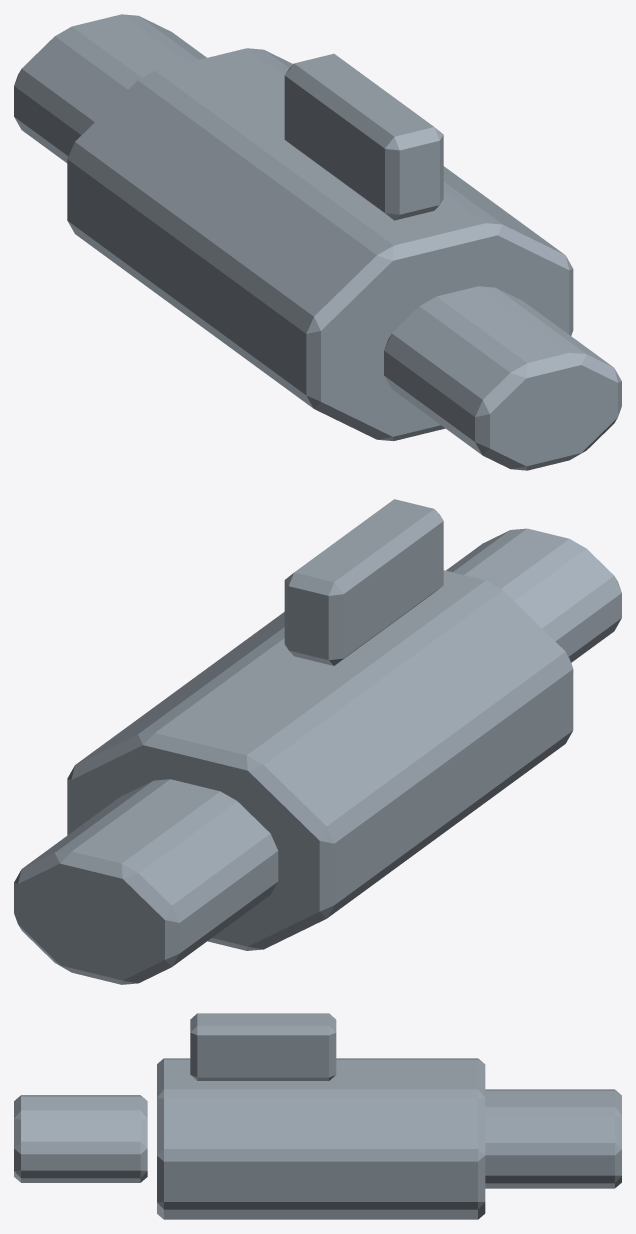
Rendered from capsule_hull_heavy.glb.
3 renders of one model, top to bottom at view 1: azimuth 30°, elevation 25°; view 2: azimuth 150°, elevation 25°; view 3: azimuth 270°, elevation 25°, orthographic. The views are drawn at different scales.
Visible parts, largest first — view 1: capsule_hull_heavy; view 2: capsule_hull_heavy; view 3: capsule_hull_heavy.
Boxes of the visible parts, x1,y1,x2,y2 form: capsule_hull_heavy: (14,14,621,470); capsule_hull_heavy: (14,499,621,984); capsule_hull_heavy: (14,1013,621,1219).
Size of the model in its own units: 3.4 by 3.4 by 10.2.
